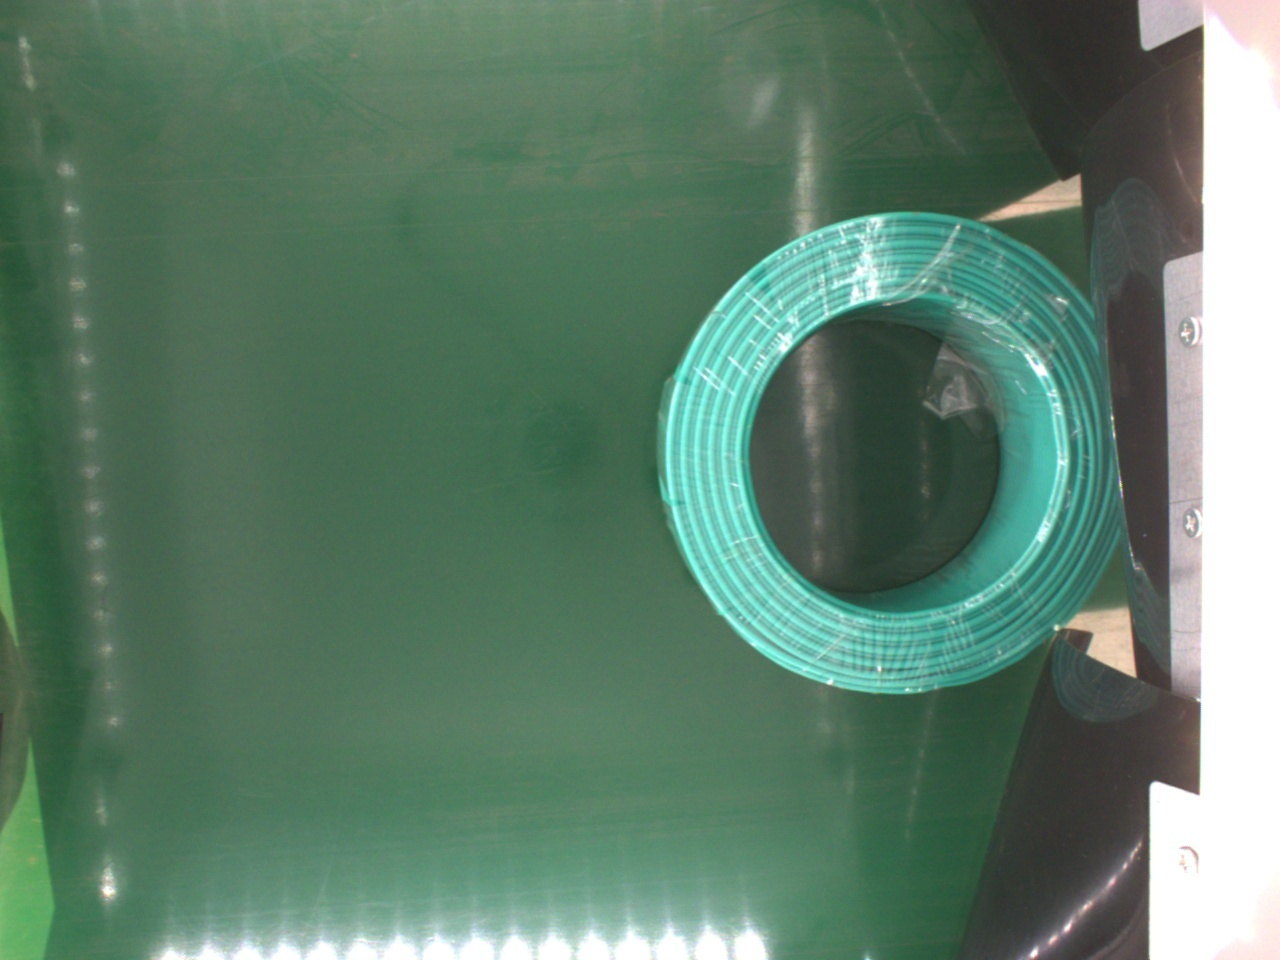green: (665, 212, 1118, 695)
